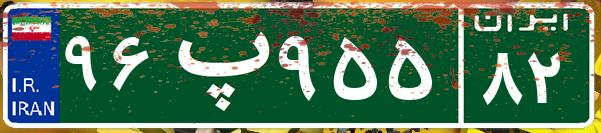2: (525, 38, 570, 115)
5: (385, 28, 445, 110), (330, 28, 385, 110)
6: (110, 28, 158, 105)
8: (475, 38, 525, 113)
9: (273, 28, 330, 110), (57, 26, 110, 107)
پ: (158, 15, 273, 115)
